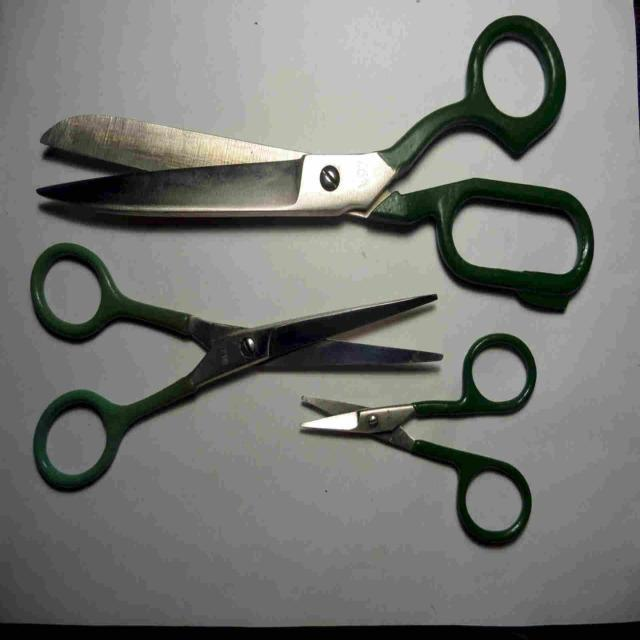tesoura: (26, 5, 611, 329), (17, 236, 451, 508), (287, 316, 551, 578)
